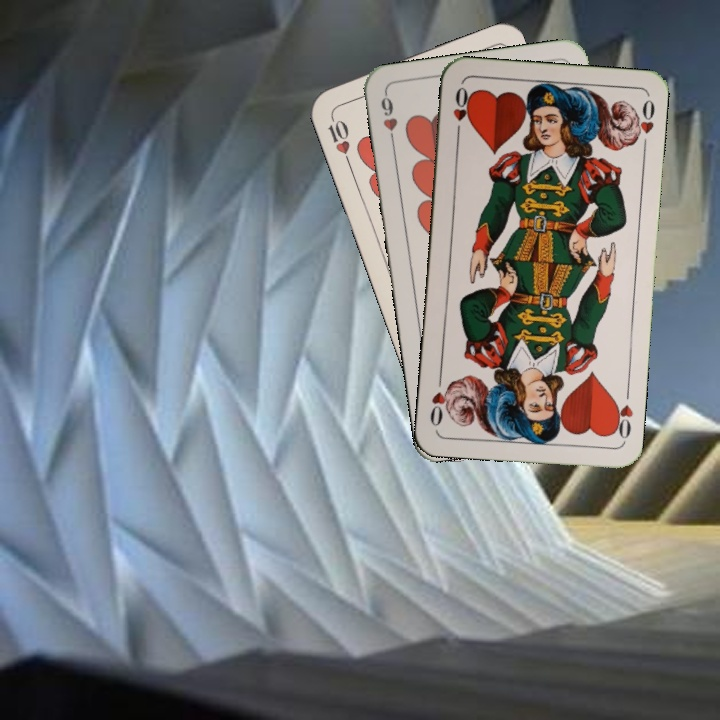H10: (324, 110, 353, 167)
H9: (376, 89, 401, 148)
HO: (608, 384, 636, 443), (449, 82, 473, 140)
